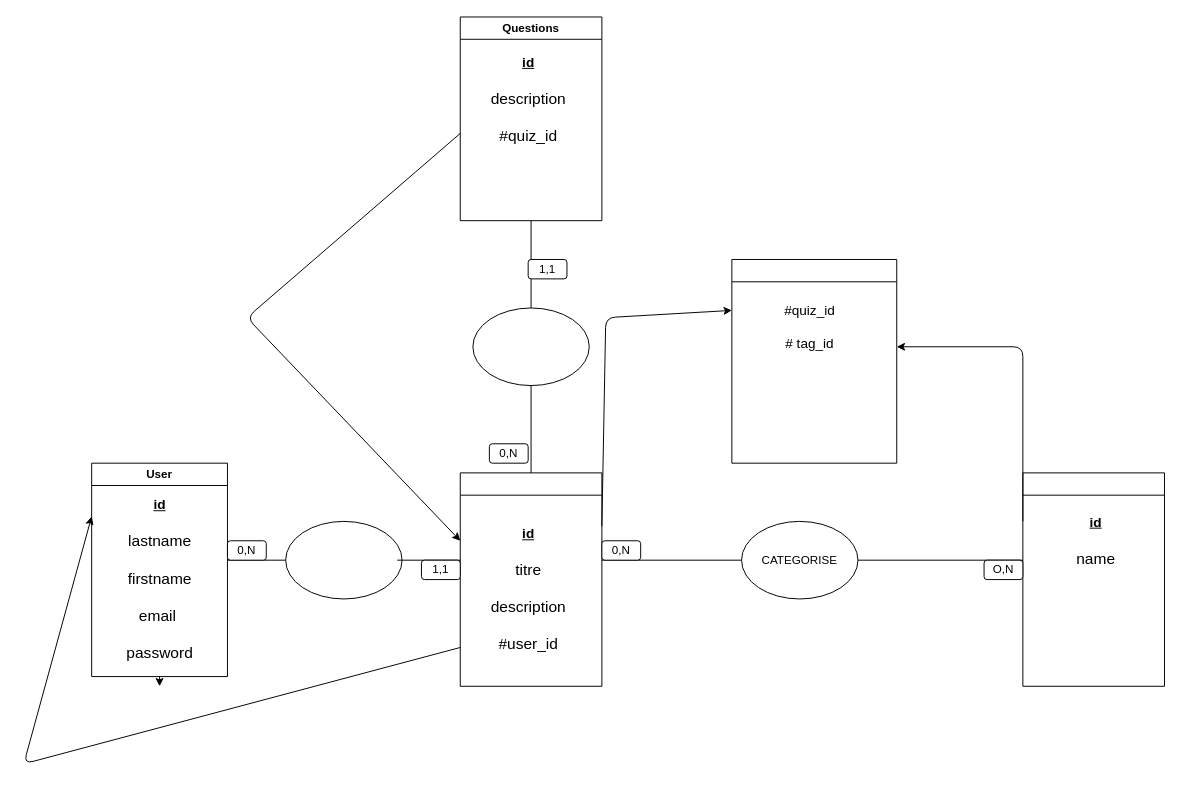
The diagram is 1181 pixels wide and 789 high, and some of its shapes have lost their labels. Here are the shapes that lost their labels. From the top down, the box of each, then its label:
(472, 307, 589, 386): COMPOSE
(731, 259, 897, 463): Quiz_has_tag
(285, 520, 402, 599): CREATE
(459, 472, 602, 686): Quiz
(1022, 472, 1164, 686): Tag
